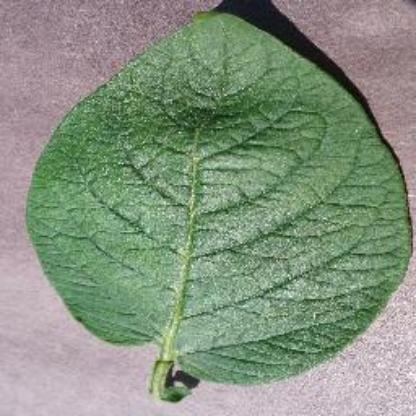Healthy-plant: (22, 15, 414, 403)
